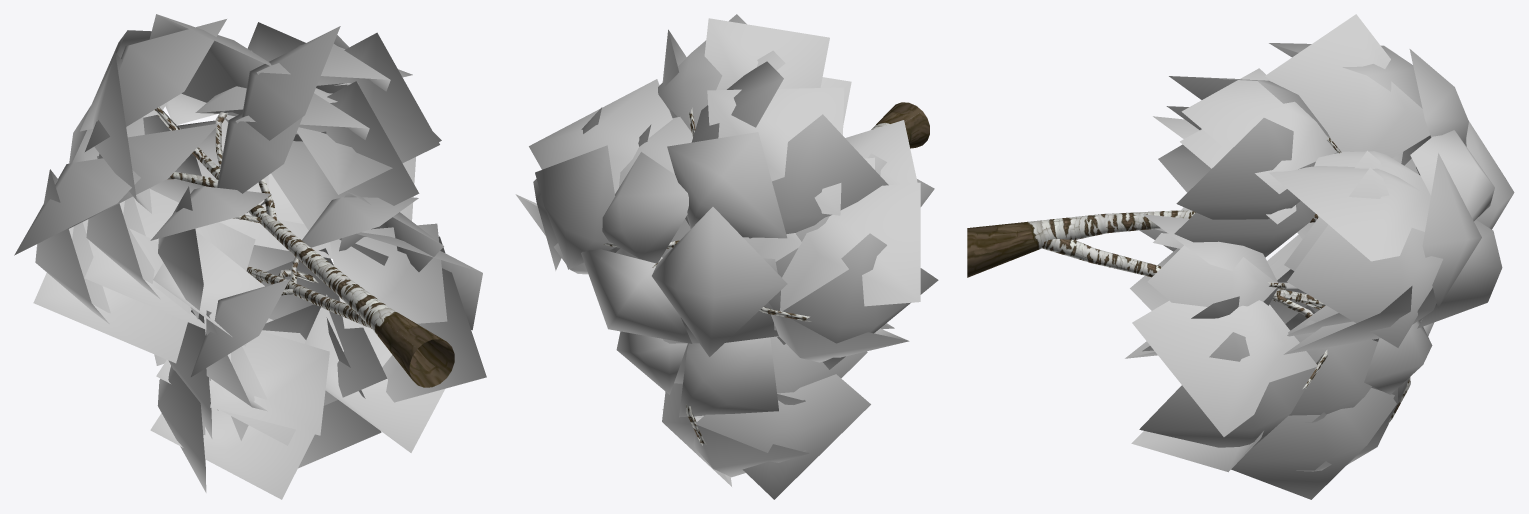
File: Birch_tree3.fbx
3 views of the same model, side by side, from view 1: azimuth 30°, elevation 25°; view 2: azimuth 150°, elevation 25°; view 3: azimuth 270°, elevation 25° (orthographic). The views are drawn at different scales.
Visible parts, largest first — view 1: Birch_tree3; view 2: Birch_tree3; view 3: Birch_tree3.
Part boxes in pixels (x1,y1,x2,y2): Birch_tree3: (14, 14, 486, 499); Birch_tree3: (515, 14, 938, 499); Birch_tree3: (967, 14, 1514, 499).
Size of the model in its own units: 8.26 by 8.92 by 9.84.
